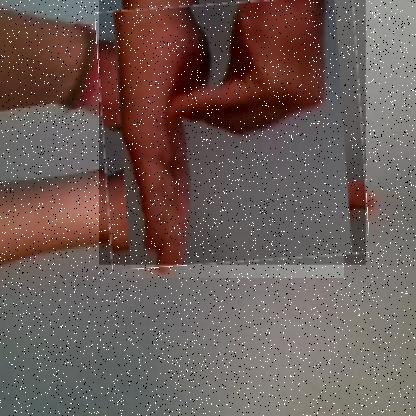Z: (99, 0, 367, 266)
